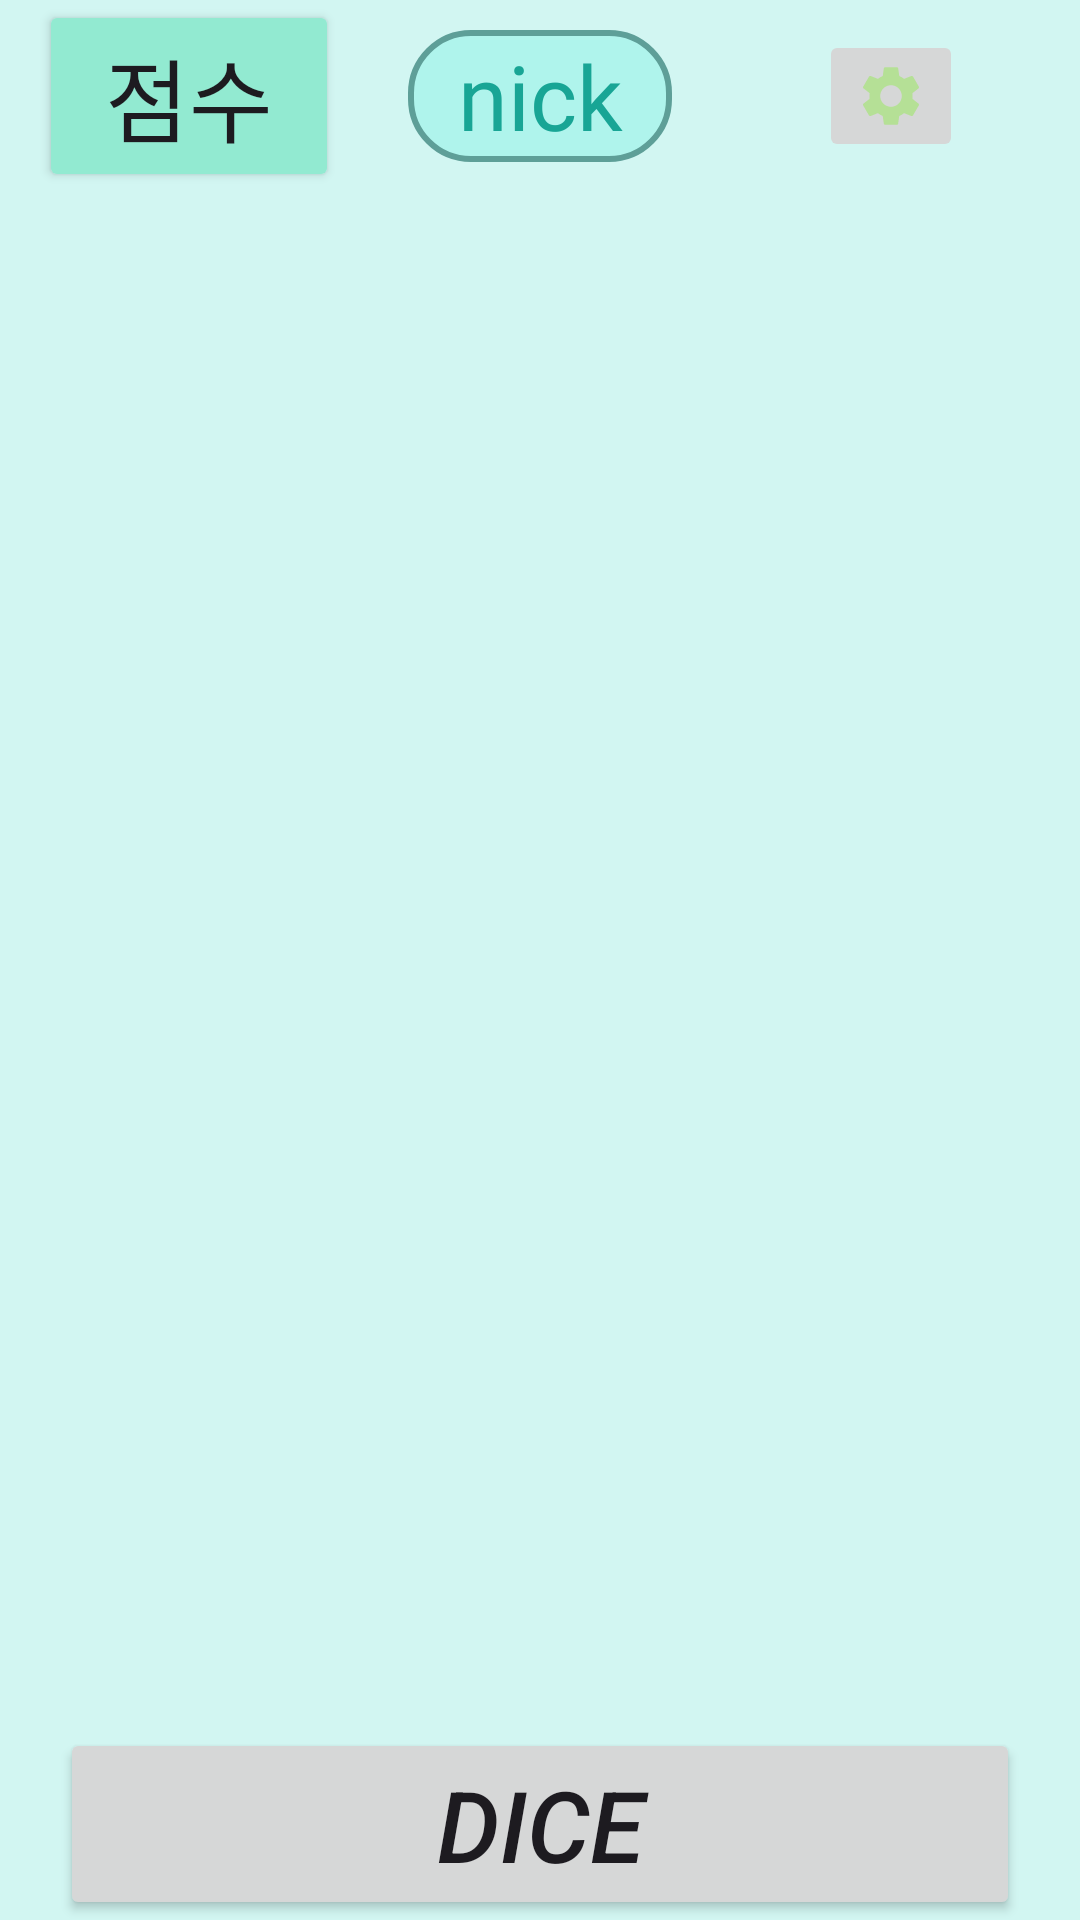

Locate icon controls on the screen. Image size 1080x1920, boxes as (x1, y1, x2, y2).
settings: (831, 48, 951, 144)
